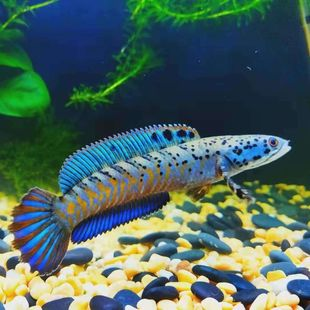Fish: (9, 115, 301, 280)
